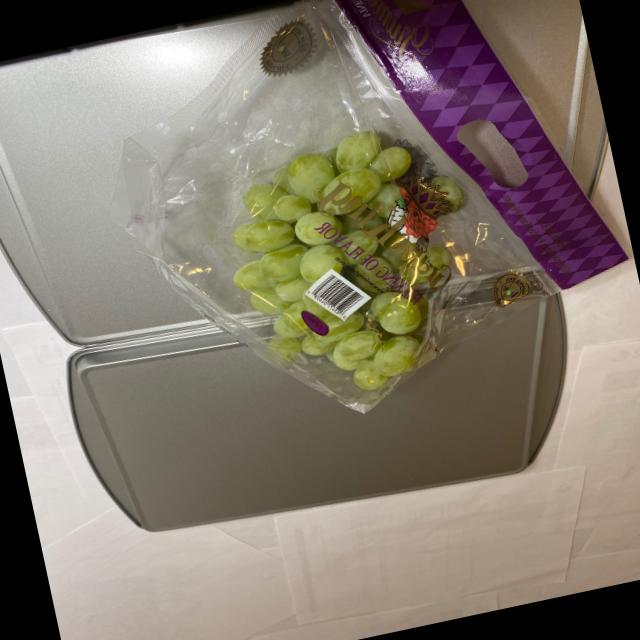grapes: (203, 106, 509, 422)
